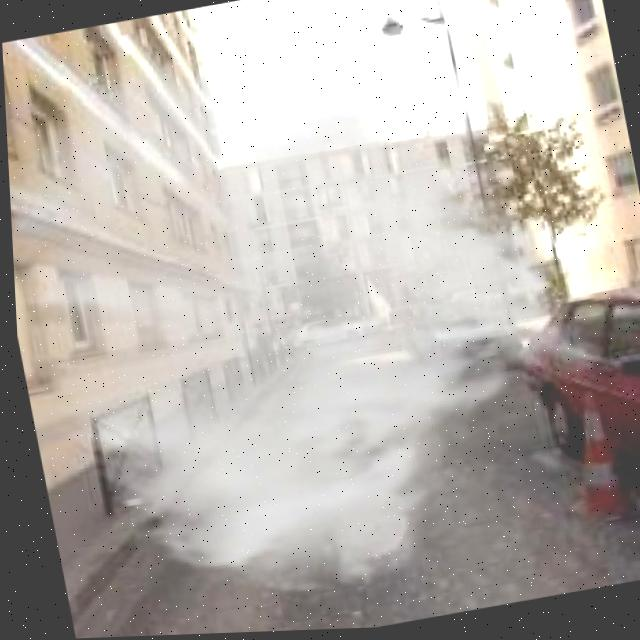Smoke: (3, 0, 631, 639)
